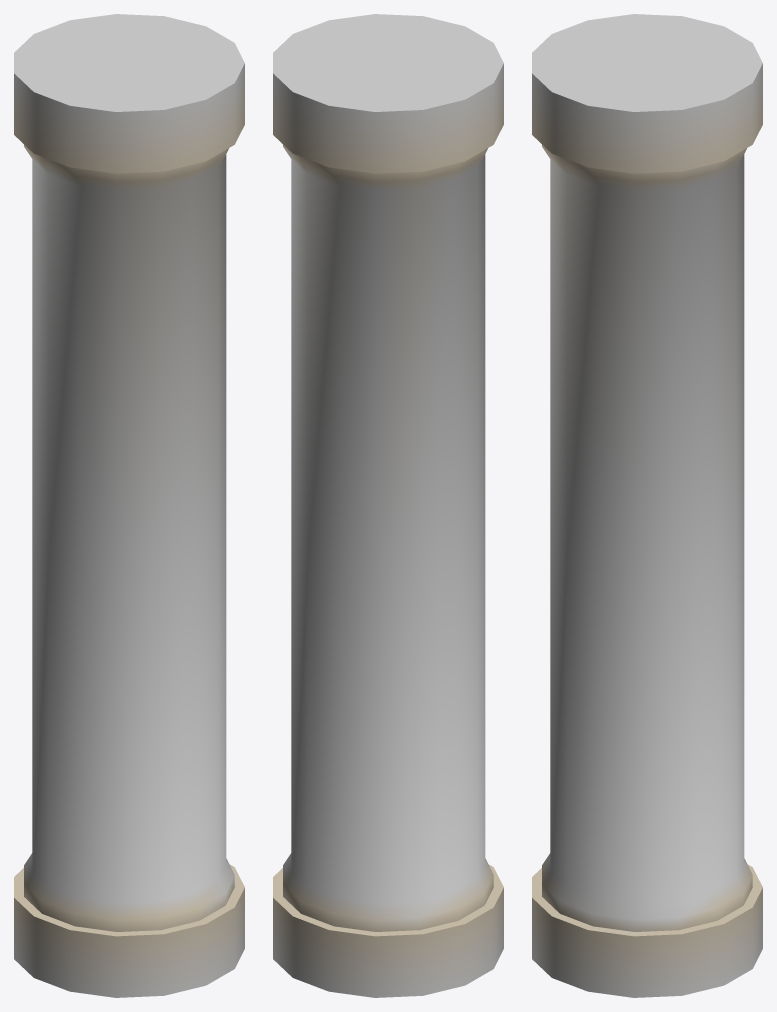
File: pillar.fbx
3 views of the same model, side by side, from view 1: azimuth 30°, elevation 25°; view 2: azimuth 150°, elevation 25°; view 3: azimuth 270°, elevation 25° (orthographic).
Parts seen in each view (by area): view 1: Cylinder; view 2: Cylinder; view 3: Cylinder.
Part boxes in pixels (x1,y1,x2,y2): Cylinder: [14, 14, 244, 997]; Cylinder: [273, 14, 503, 997]; Cylinder: [532, 14, 762, 997].
Bounding box in the file's own units: 236 × 996 × 235.
